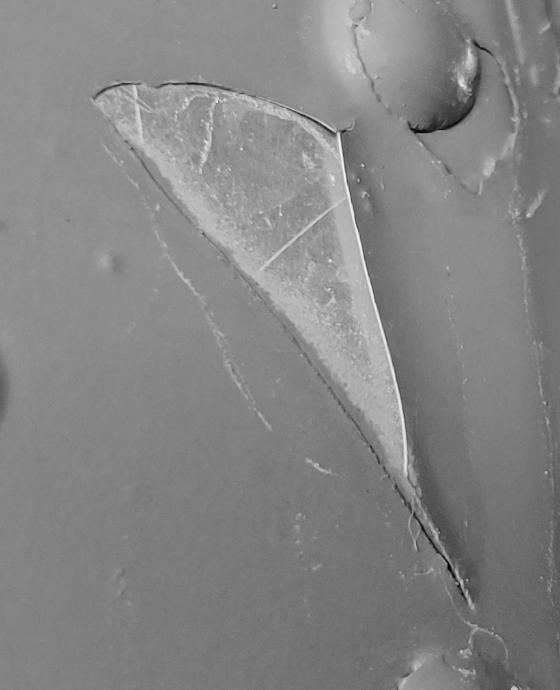paint-off: (0, 1, 560, 690)
